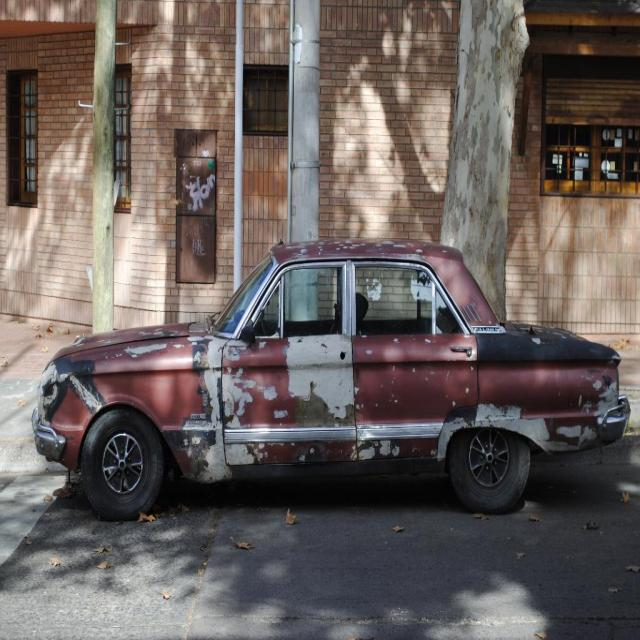car: (26, 231, 631, 525)
